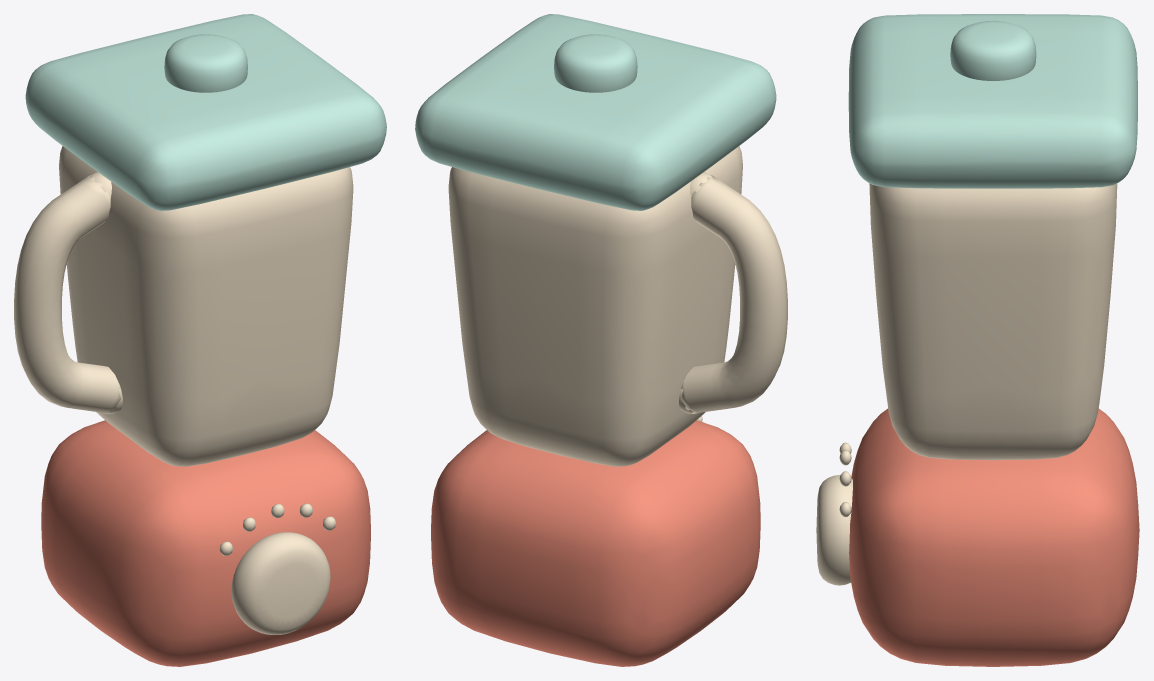
File: blender_b.glb
The picture shows the model from 3 angles, left to right: view 1: azimuth 30°, elevation 25°; view 2: azimuth 150°, elevation 25°; view 3: azimuth 270°, elevation 25°; orthographic projection. The views are drawn at different scales.
Parts seen in each view (by area): view 1: body; view 2: body; view 3: body.
Boxes of the visible parts, box(x1,y1,x2,y2) form: body: box(14, 14, 386, 666); body: box(415, 14, 787, 666); body: box(816, 14, 1139, 666).
Size of the model in its own units: 0.246 by 0.432 by 0.21.
